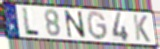4: (111, 12, 130, 43)
8: (44, 9, 63, 38)
G: (86, 10, 109, 42)
K: (132, 13, 152, 44)
L: (21, 7, 41, 37)
N: (63, 9, 88, 40)
